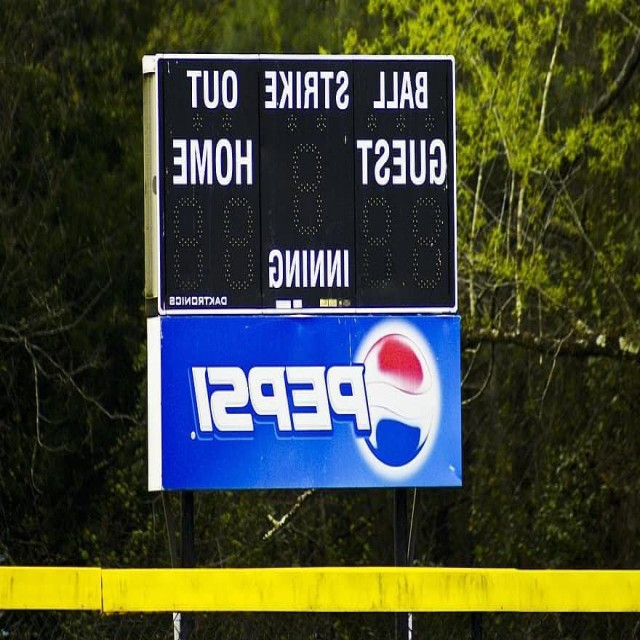pepsi: (348, 326, 439, 473)
